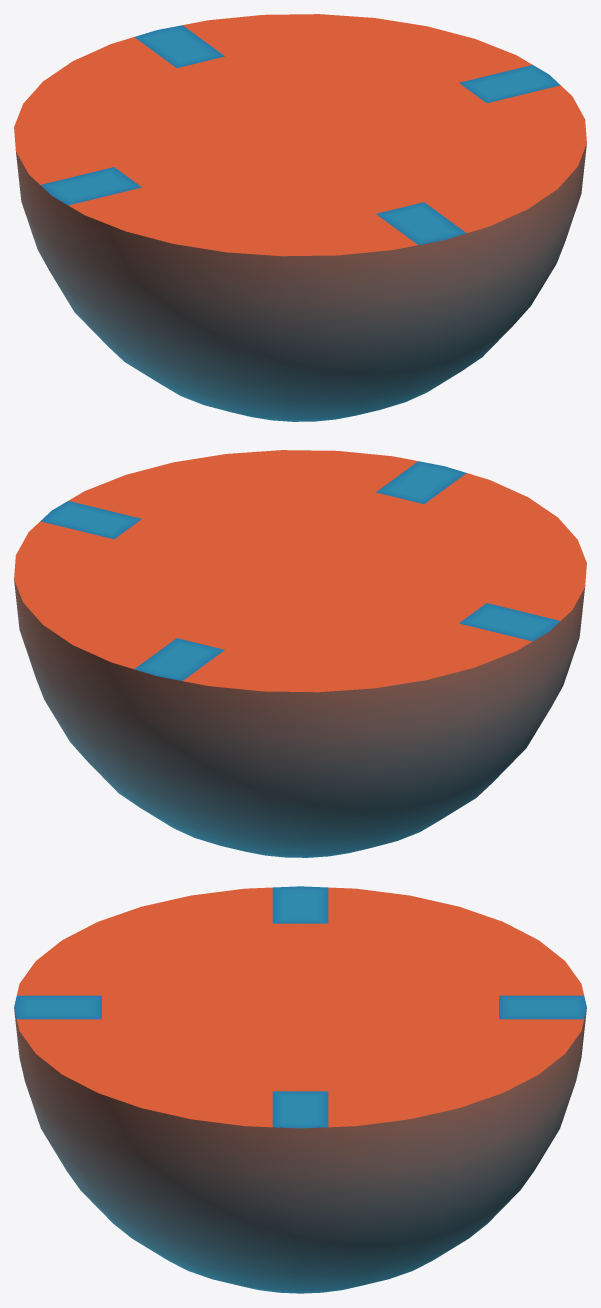
File: RED_HalfSphere_basic.fbx
3 views of the same model, one above another, from view 1: azimuth 30°, elevation 25°; view 2: azimuth 150°, elevation 25°; view 3: azimuth 270°, elevation 25° (orthographic).
Visible parts, largest first — view 1: RED_HalfSphere_basic; view 2: RED_HalfSphere_basic; view 3: RED_HalfSphere_basic.
Part boxes in pixels (left/top/right/bottom): RED_HalfSphere_basic: left=14, top=14, right=586, bottom=421; RED_HalfSphere_basic: left=14, top=450, right=586, bottom=857; RED_HalfSphere_basic: left=14, top=886, right=586, bottom=1293.
Size of the model in its own units: 64.54 by 32.27 by 64.54.
